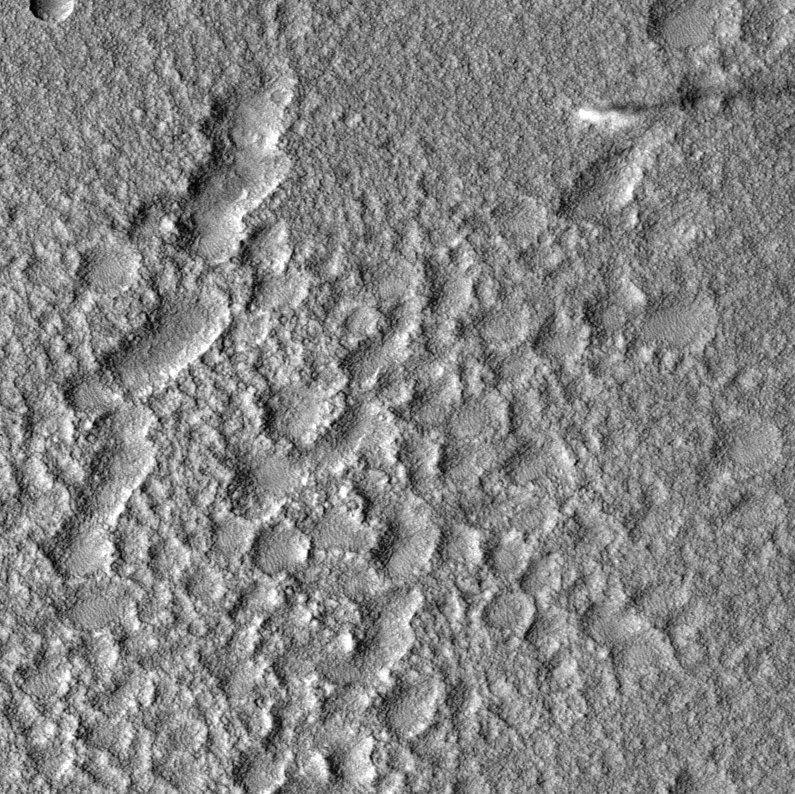dust_devil: (575, 74, 795, 135)
